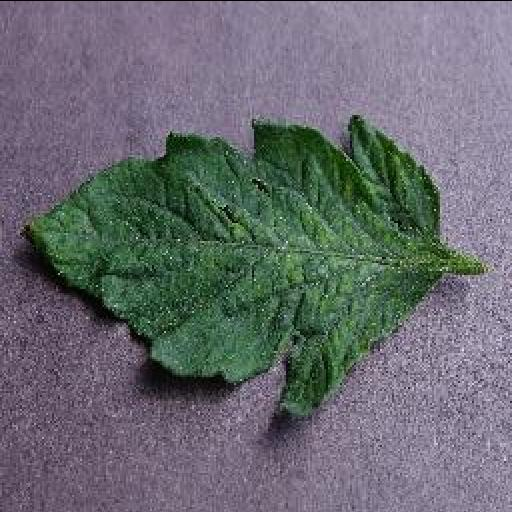disease_tomato: (22, 114, 444, 420)
